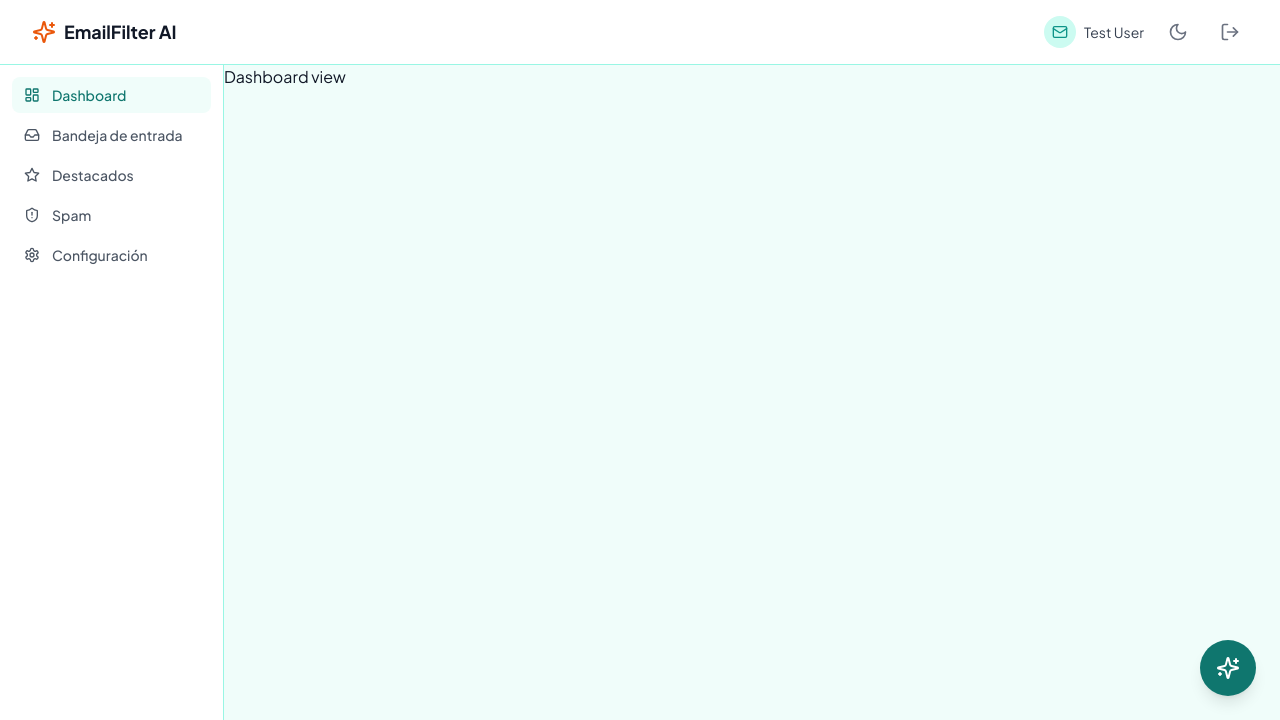
Layout sidebar navigation › navigates to settings when clicking the nav item
The image size is (1280, 720).
Click the link "Configuración" at coordinates (86, 255), box [24,246,148,264]
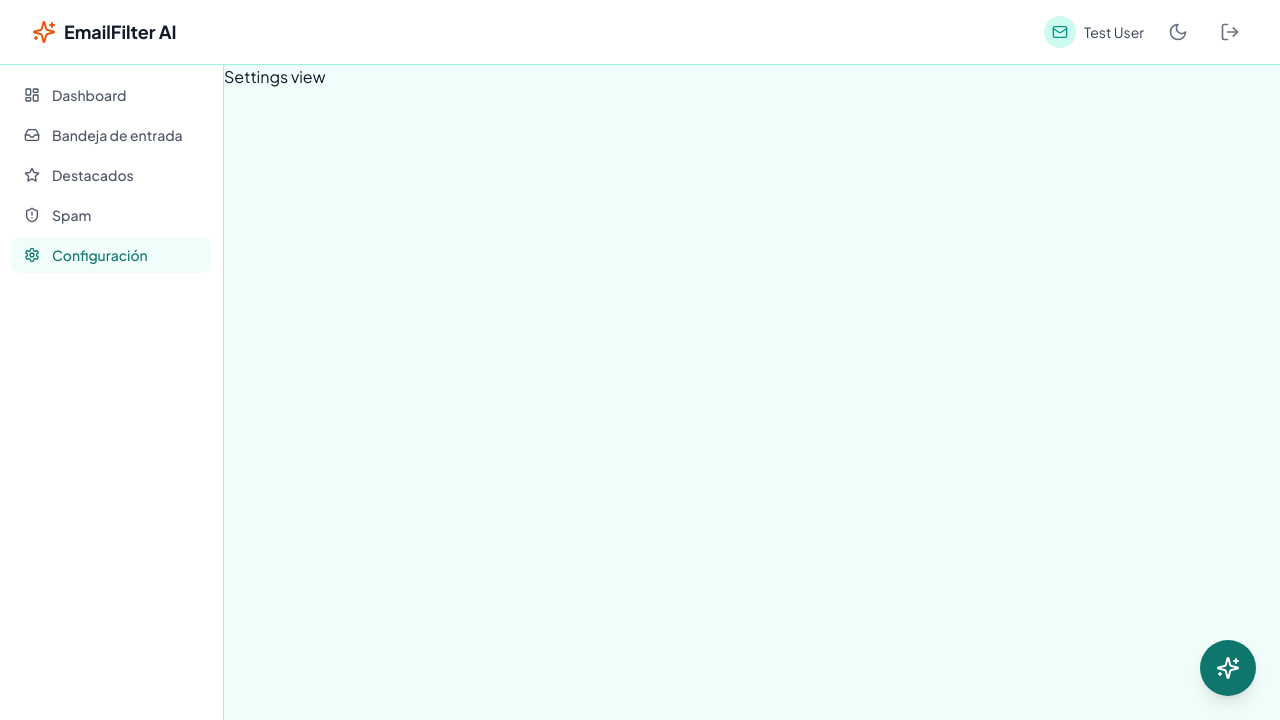
Check: the text "Settings view" is shown, box [224,66,325,87]
